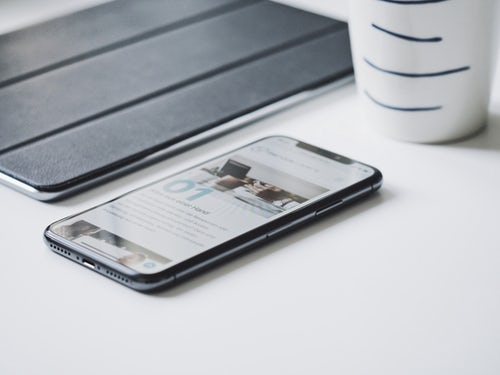phone: (47, 129, 389, 292)
